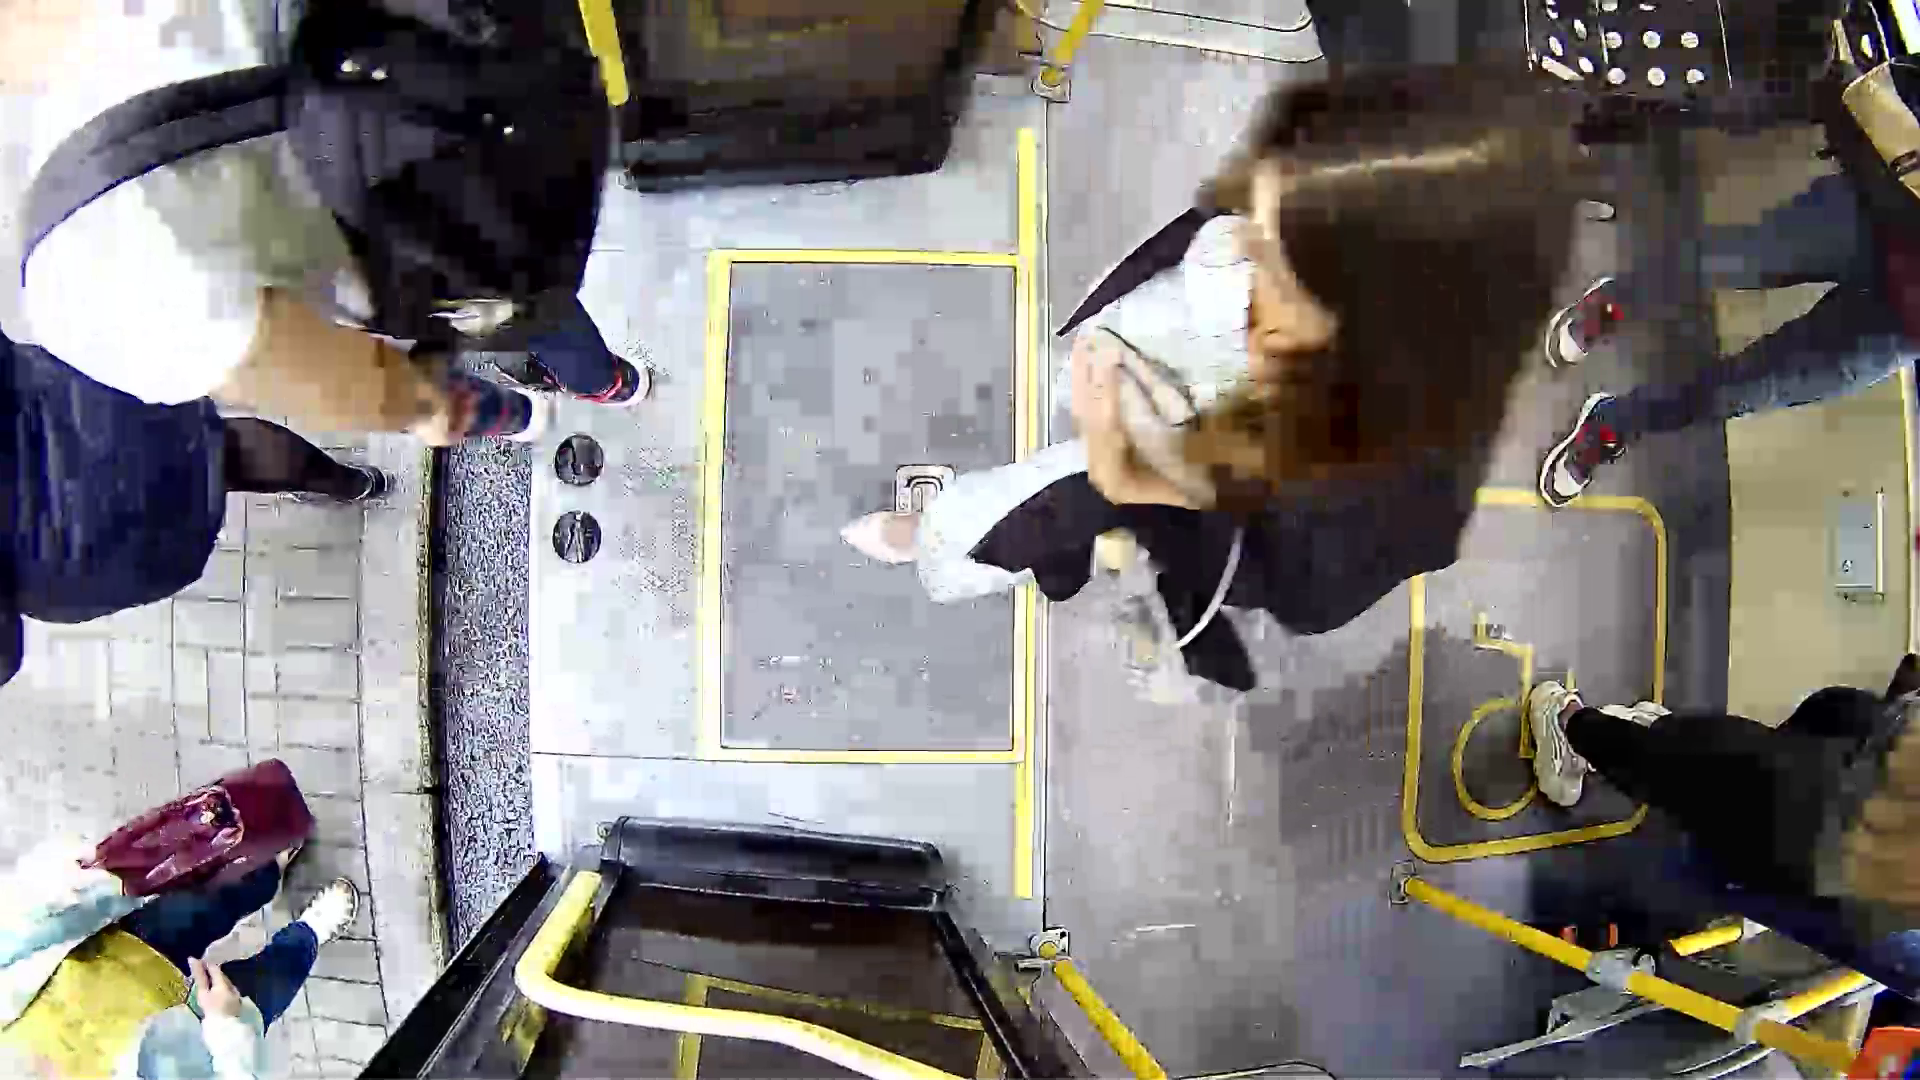person: (864, 56, 1587, 705)
